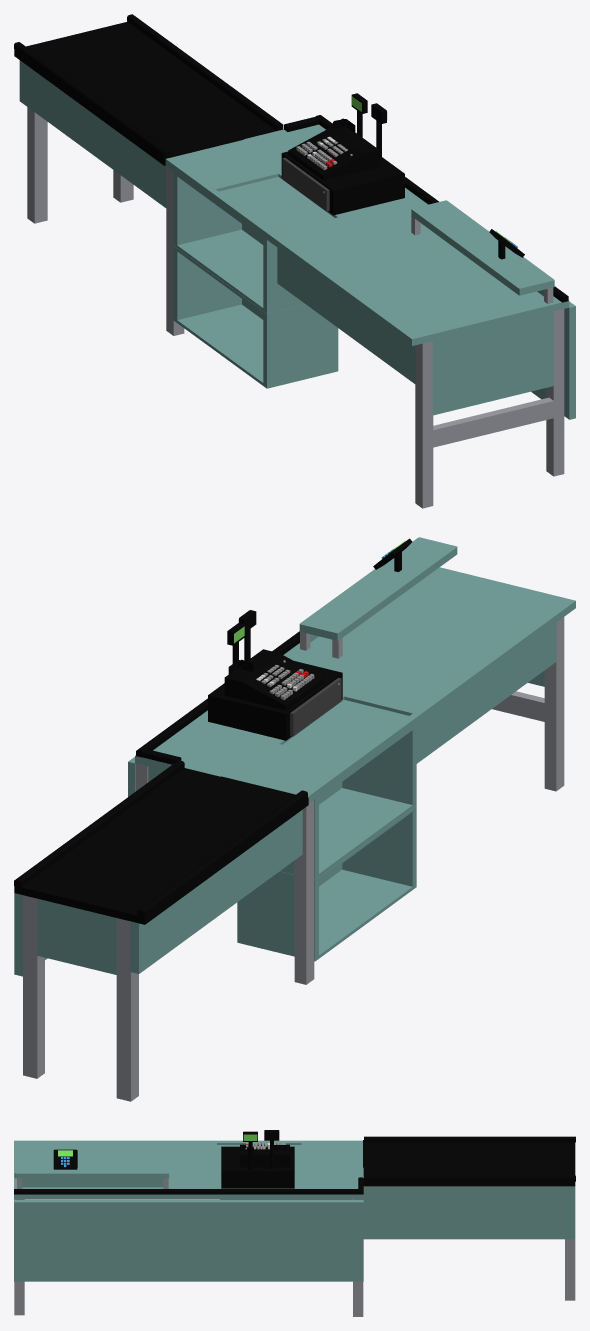
The model's file is cashregisterMIRRORED.fbx.
3 renders of one model, top to bottom at view 1: azimuth 30°, elevation 25°; view 2: azimuth 150°, elevation 25°; view 3: azimuth 270°, elevation 25°, orthographic. The views are drawn at different scales.
Visible parts, largest first — view 1: Cube.072, Cube.080, Cube.055, Cube.059, Cube.040, Cube.056, Cube.074, Cube.054, Cube.069, Cube.063, Cube.058, Cube.062 (+6 smaller); view 2: Cube.072, Cube.080, Cube.055, Cube.040, Cube.056, Cube.074, Cube.054, Cube.069, Cube.073, Cube.077, Cube.078, Cube.057 (+6 smaller); view 3: Cube.070, Cube.072, Cube.079, Cube.080, Cube.040, Cube.069, Cube.071, Cube.075, Cube.076, Cube.053, Cube.078, Cube.065 (+2 smaller).
Part boxes in pixels (box(x1,y1,x2,y2)): Cube.072: box(165, 124, 569, 345); Cube.080: box(14, 21, 276, 165); Cube.055: box(173, 246, 338, 388); Cube.059: box(432, 311, 553, 415); Cube.040: box(281, 93, 404, 215); Cube.056: box(173, 172, 305, 313); Cube.074: box(19, 60, 166, 207); Cube.054: box(277, 248, 415, 384); Cube.069: box(411, 200, 554, 295); Cube.063: box(415, 341, 433, 508); Cube.058: box(432, 397, 553, 447); Cube.062: box(546, 309, 564, 476); Cube.072: box(135, 567, 575, 803); Cube.080: box(14, 768, 308, 924); Cube.055: box(237, 806, 416, 961); Cube.040: box(208, 610, 342, 740); Cube.056: box(280, 725, 416, 879); Cube.074: box(130, 810, 302, 973); Cube.054: box(416, 622, 556, 763); Cube.069: box(299, 537, 457, 640); Cube.073: box(37, 898, 116, 974); Cube.077: box(116, 918, 138, 1101); Cube.078: box(23, 895, 44, 1078); Cube.057: box(294, 800, 314, 984); Cube.070: box(14, 1200, 363, 1281); Cube.072: box(14, 1140, 363, 1199); Cube.079: box(363, 1186, 575, 1239); Cube.080: box(363, 1140, 575, 1186); Cube.040: box(221, 1130, 294, 1188); Cube.069: box(14, 1161, 169, 1178); Cube.071: box(14, 1189, 363, 1194); Cube.075: box(364, 1175, 575, 1181); Cube.076: box(364, 1136, 575, 1142); Cube.053: box(22, 1178, 163, 1187); Cube.078: box(565, 1239, 575, 1300); Cube.065: box(53, 1149, 77, 1169).
Size of the model in its own units: 4.63 by 6.66 by 19.25.
